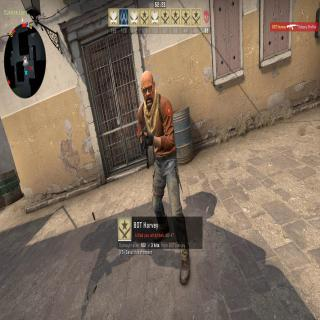T-Body: (137, 72, 190, 281)
T-Head: (140, 72, 156, 108)
